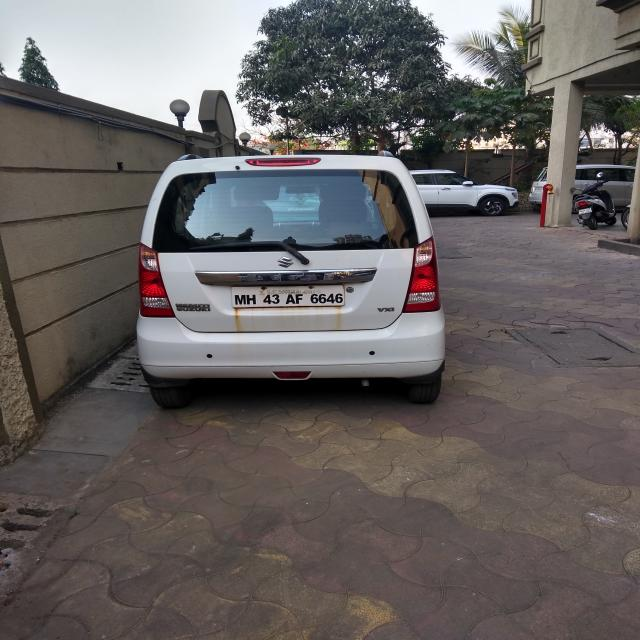Number-Plate: (233, 285, 340, 306)
